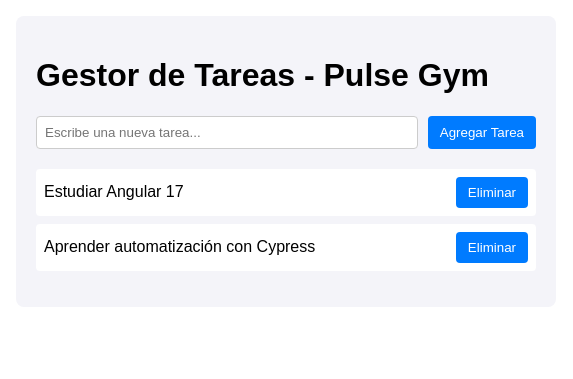
Test: Gestor de Tareas E2E › Debe agregar una nueva tarea
The width and height of the screenshot is (573, 379).
Step 1. Type "Nueva tarea de prueba E2E" into the field with test id "task-input" → {"x": 227, "y": 133}, box [36, 116, 418, 149]
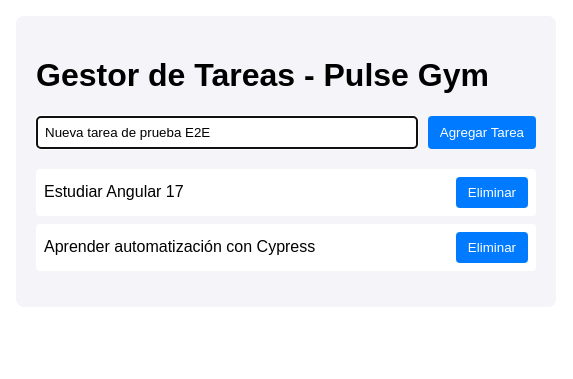
Step 2. Click the button with test id "add-task-btn" → {"x": 482, "y": 133}, box [428, 116, 536, 149]
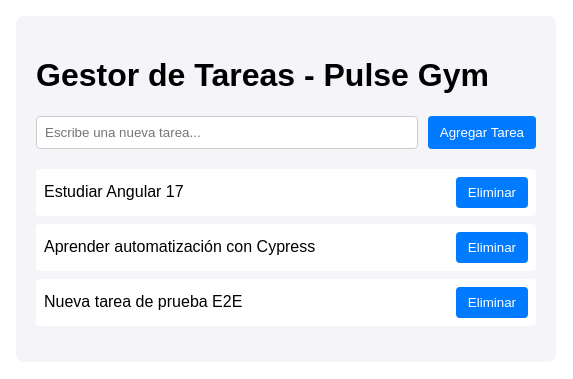
Now the number of list items with test id "task-item" is 3, box [36, 169, 536, 216]; [36, 224, 536, 271]; [36, 279, 536, 326]
Now the list with test id "task-list" shows "Nueva tarea de prueba E2E", box [36, 169, 536, 326]
